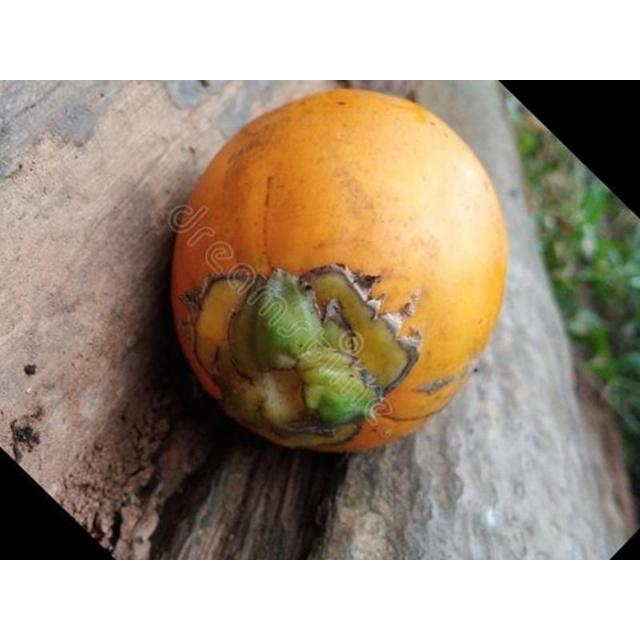good: (166, 89, 510, 459)
